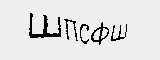П: (62, 18, 80, 43)
С: (78, 22, 90, 46)
Ф: (91, 21, 112, 46)
Ш: (26, 11, 61, 39), (108, 22, 129, 44)
